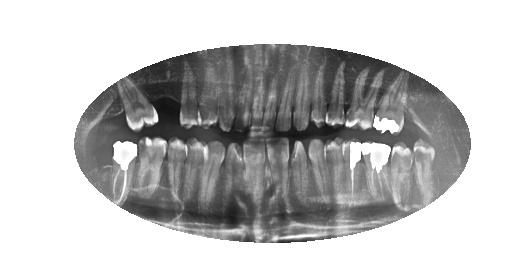i10chipped: (219, 138, 249, 216)
i11healthy: (198, 136, 228, 214)
i12healthy: (182, 138, 208, 216)
i13healthy: (163, 136, 190, 206)
i14healthy: (132, 135, 169, 208)
i15healthy: (108, 140, 140, 209)
i16loss: (91, 134, 113, 187)
i1healthy: (409, 135, 435, 199)
i1loss: (407, 83, 432, 140)
i2healthy: (387, 138, 413, 210)
i3healthy: (358, 139, 394, 202)
i4healthy: (339, 137, 364, 208)
i5healthy: (319, 135, 345, 209)
i6healthy: (302, 134, 329, 212)
i7decay: (285, 133, 313, 214)
i8decay: (263, 134, 293, 223)
i9decay: (236, 136, 272, 221)
u12healthy: (197, 53, 224, 130)
u13healthy: (175, 58, 202, 132)
u14loss: (153, 69, 184, 128)
u15healthy: (111, 80, 166, 135)
u16loss: (98, 93, 124, 135)
u2healthy: (372, 62, 410, 137)
u3healthy: (342, 62, 381, 131)
u4healthy: (322, 53, 349, 130)
u5healthy: (305, 52, 326, 129)
u6healthy: (291, 60, 308, 130)
u7healthy: (272, 59, 294, 136)
u9decay: (234, 50, 256, 135)
